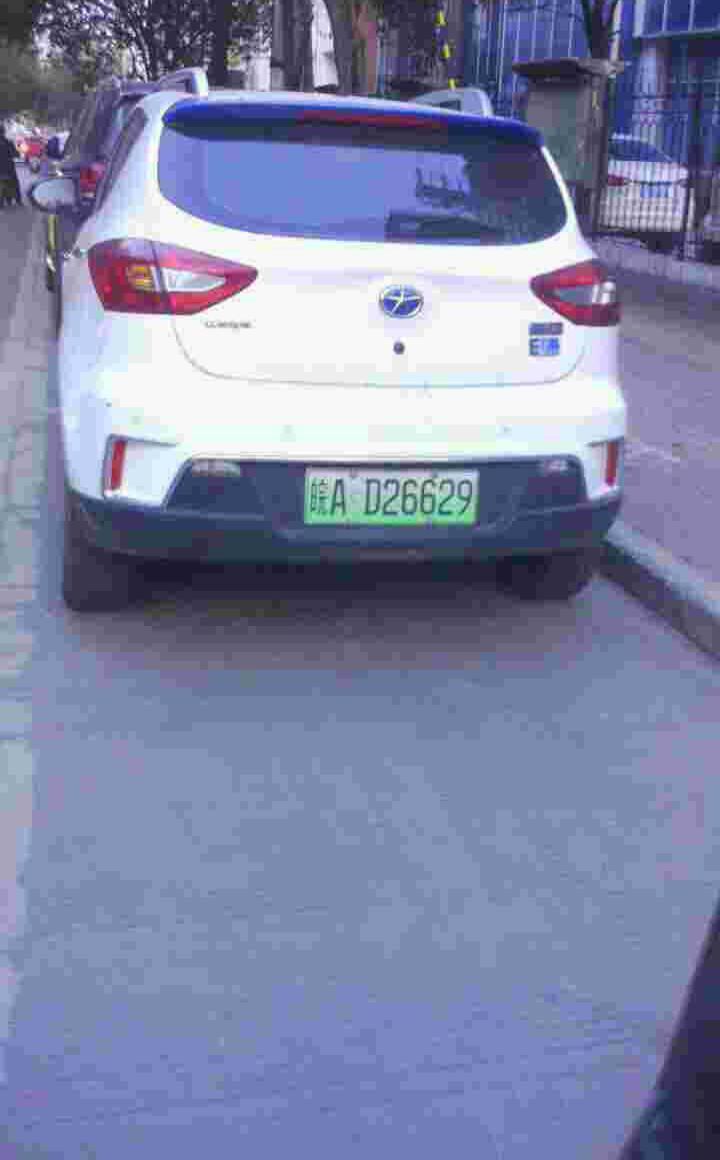car: (303, 464, 480, 525)
